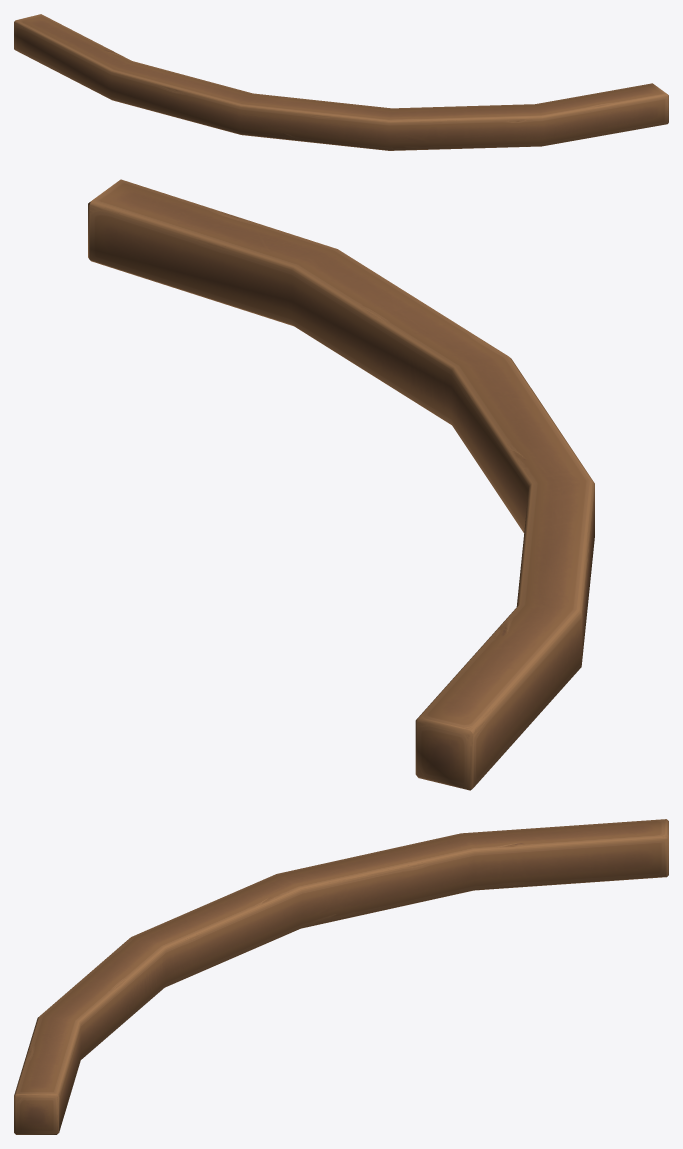
File: ARC0510082.fbx
The picture shows the model from 3 angles, top to bottom: view 1: azimuth 30°, elevation 25°; view 2: azimuth 150°, elevation 25°; view 3: azimuth 270°, elevation 25°; orthographic projection. The views are drawn at different scales.
Parts seen in each view (by area): view 1: smARC0510082; view 2: smARC0510082; view 3: smARC0510082.
Part boxes in pixels (x1,y1,x2,y2): smARC0510082: [14, 14, 668, 150]; smARC0510082: [88, 179, 594, 790]; smARC0510082: [14, 819, 668, 1134].
Bounding box in the file's own units: 290 × 20 × 290.
1 material, 1 textured.
